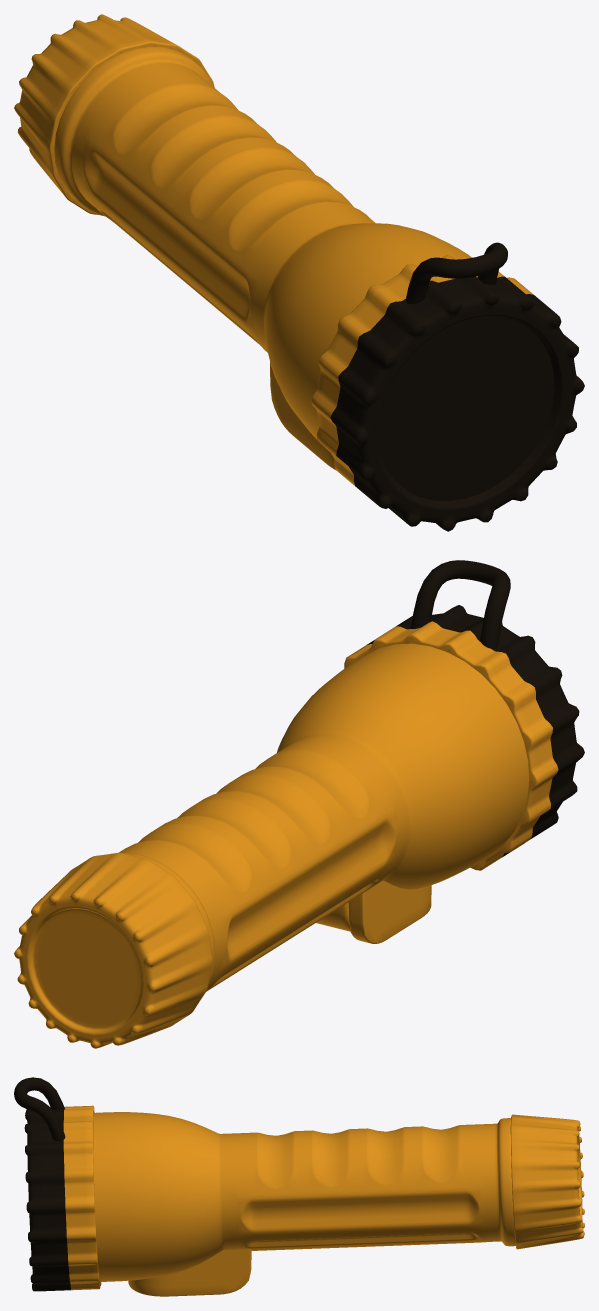
Rendered from torche.glb.
The picture shows the model from 3 angles, top to bottom: view 1: azimuth 30°, elevation 25°; view 2: azimuth 150°, elevation 25°; view 3: azimuth 270°, elevation 25°; orthographic projection. The views are drawn at different scales.
Visible parts, largest first — view 1: 18413_Miniature_Flashligh_v2; view 2: 18413_Miniature_Flashligh_v2; view 3: 18413_Miniature_Flashligh_v2.
Part boxes in pixels (x1,y1,x2,y2): 18413_Miniature_Flashligh_v2: (14, 14, 584, 531); 18413_Miniature_Flashligh_v2: (14, 560, 584, 1048); 18413_Miniature_Flashligh_v2: (14, 1077, 584, 1296).
Bounding box in the file's own units: 0.0447 × 0.0519 × 0.1381.
